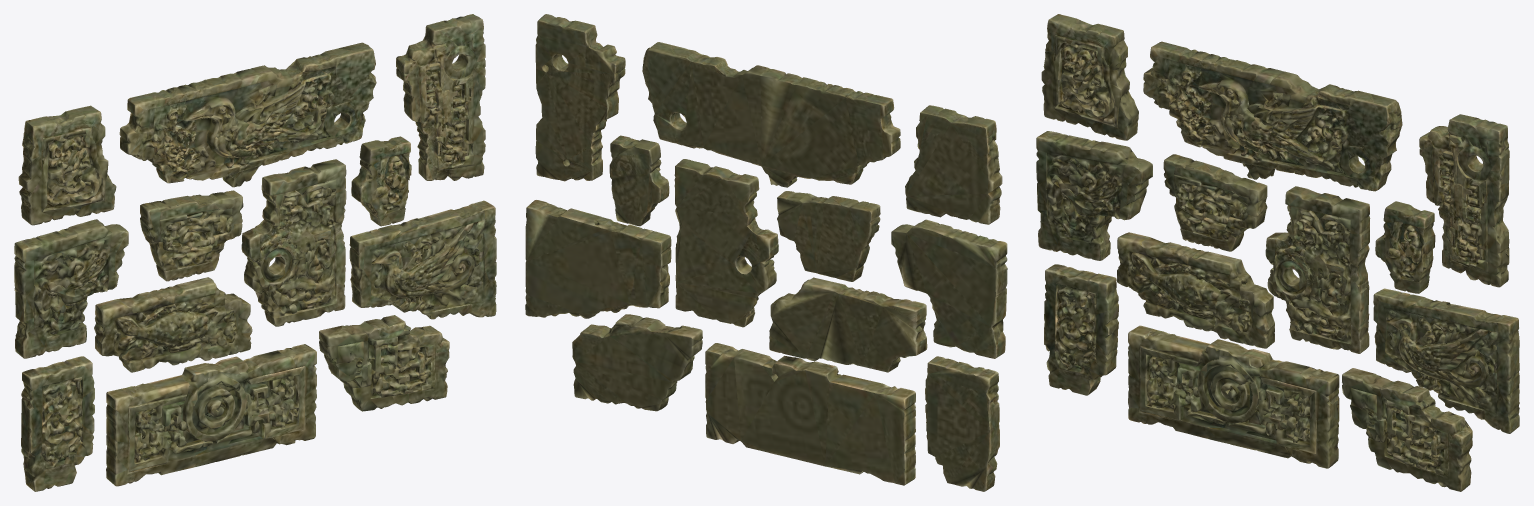
File: 13-bronze-fragment.glb
The picture shows the model from 3 angles, left to right: view 1: azimuth 30°, elevation 25°; view 2: azimuth 150°, elevation 25°; view 3: azimuth 330°, elevation 25°; orthographic projection.
Parts seen in each view (by area): view 1: mesh_node; view 2: mesh_node; view 3: mesh_node.
Boxes of the visible parts, box(x1,y1,x2,y2) form: mesh_node: box(14, 14, 496, 491); mesh_node: box(525, 14, 1007, 491); mesh_node: box(1036, 14, 1519, 491).
Size of the model in its own units: 1.9 by 1.46 by 0.1022.
1 material, 1 textured.
